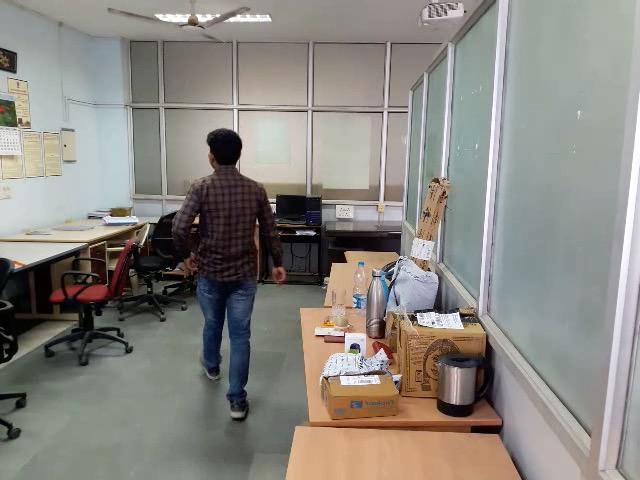shoplifting: (173, 242, 213, 288)
